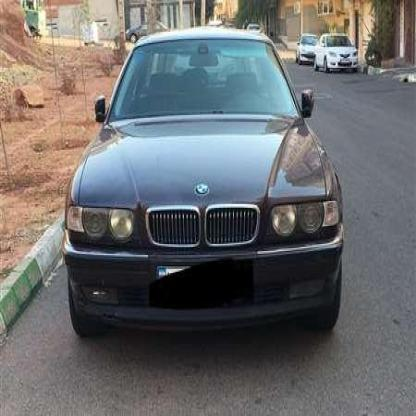Car: (67, 27, 350, 361), (317, 39, 358, 76), (293, 33, 321, 68)
